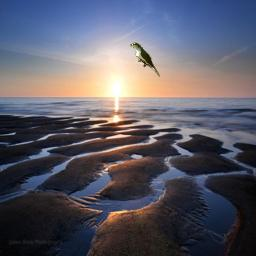Cuckoo: (130, 42, 161, 77)
